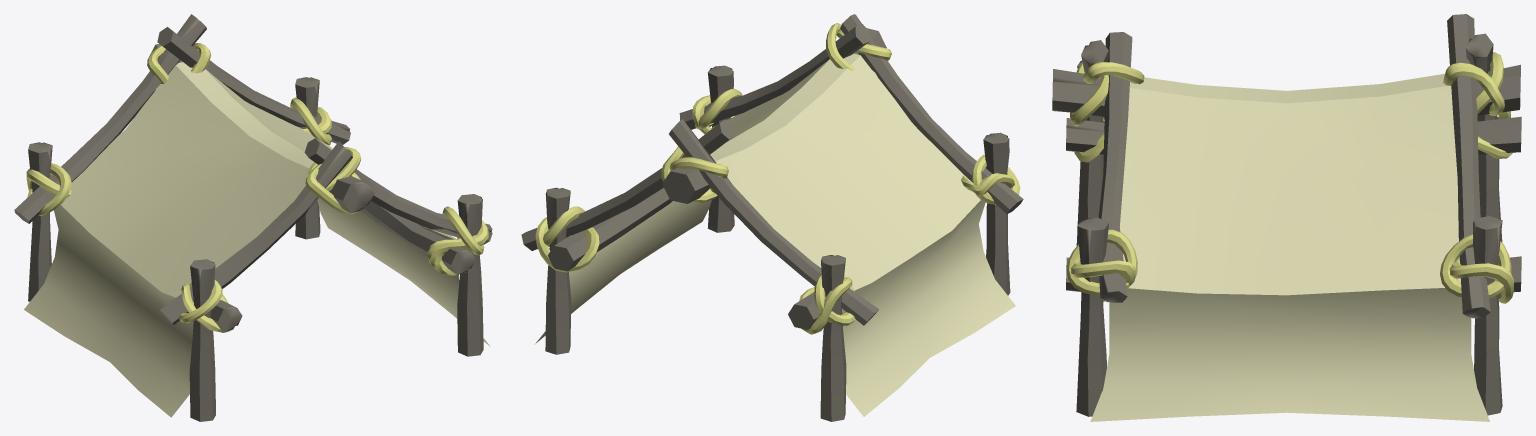
Rendered from Tent.fbx.
The picture shows the model from 3 angles, left to right: view 1: azimuth 30°, elevation 25°; view 2: azimuth 150°, elevation 25°; view 3: azimuth 270°, elevation 25°; orthographic projection. The views are drawn at different scales.
Visible parts, largest first — view 1: pCube5, pCylinder4, pCylinder3, pCylinder2, pCylinder5, pCylinder7, pCylinder8, pCylinder9, pasted__pasted__pCylinder4, pCylinder6, BobaHouseObj1:pasted__pasted__pCylinder2, pTorus16 (+9 smaller); view 2: pCube5, pCylinder4, pCylinder3, pCylinder9, pCylinder6, pCylinder7, pCylinder8, pasted__pasted__pCylinder4, pCylinder2, pCylinder5, BobaHouseObj1:pasted__pasted__pCylinder2, pTorus11 (+10 smaller); view 3: pCube5, pCylinder7, pCylinder8, pCylinder5, pCylinder6, BobaHouseObj1:pasted__pasted__pCylinder2, pasted__pasted__pCylinder2, pCylinder2, pCylinder9, pTorus10, pTorus15, pTorus14 (+8 smaller).
Boxes of the visible parts, <box> form: pCube5: <box>24,62,490,417</box>; pCylinder4: <box>14,14,206,223</box>; pCylinder3: <box>160,141,352,324</box>; pCylinder2: <box>189,259,215,421</box>; pCylinder5: <box>457,194,483,356</box>; pCylinder7: <box>157,27,350,144</box>; pCylinder8: <box>304,138,492,244</box>; pCylinder9: <box>28,142,52,301</box>; pasted__pasted__pCylinder4: <box>361,201,475,274</box>; pCylinder6: <box>295,77,320,239</box>; BobaHouseObj1:pasted__pasted__pCylinder2: <box>147,44,374,213</box>; pTorus16: <box>427,220,488,275</box>; pCube5: <box>535,53,1015,416</box>; pCylinder4: <box>669,119,878,325</box>; pCylinder3: <box>840,14,1023,213</box>; pCylinder9: <box>820,255,846,421</box>; pCylinder6: <box>545,187,571,354</box>; pCylinder7: <box>521,119,734,250</box>; pCylinder8: <box>679,24,869,129</box>; pasted__pasted__pCylinder4: <box>547,188,672,271</box>; pCylinder2: <box>983,132,1010,295</box>; pCylinder5: <box>707,65,734,232</box>; BobaHouseObj1:pasted__pasted__pCylinder2: <box>662,28,886,203</box>; pTorus11: <box>535,217,599,272</box>; pCube5: <box>1090,74,1489,421</box>; pCylinder7: <box>1447,14,1490,318</box>; pCylinder8: <box>1098,32,1132,302</box>; pCylinder5: <box>1076,217,1108,416</box>; pCylinder6: <box>1473,216,1502,415</box>; BobaHouseObj1:pasted__pasted__pCylinder2: <box>1052,64,1520,116</box>; pasted__pasted__pCylinder2: <box>1066,116,1521,154</box>; pCylinder2: <box>1076,60,1103,245</box>; pCylinder9: <box>1477,114,1502,242</box>; pTorus10: <box>1440,234,1511,298</box>; pTorus15: <box>1066,229,1137,295</box>; pTorus14: <box>1443,62,1504,115</box>.
Bounding box in the file's own units: 8.69 × 6.14 × 8.54.
